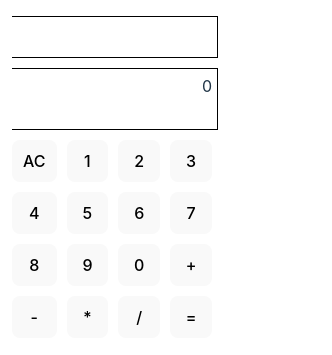
Test: Calculator component › Operação de cálculo (=)
What coordinates should you click on to do the following:
click the button with test id "button-9"
I would click on:
 (87, 265)
Its box is [66,244,108,286].
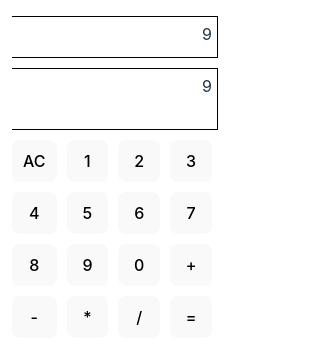
What coordinates should you click on to do the following:
click the button with test id "button-3"
I would click on:
 (191, 161)
Its box is [170,140,212,182].
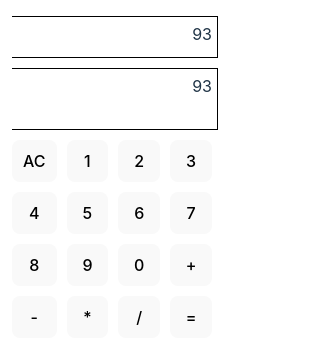
What coordinates should you click on to do the following:
click the button "/"
I would click on:
 (139, 317)
Its box is [118,296,160,338].
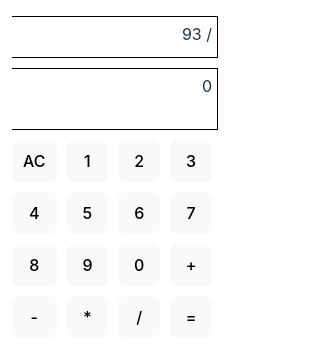
What coordinates should you click on to do the following:
click the button with test id "button-0"
I would click on:
 (139, 265)
Its box is [118,244,160,286].
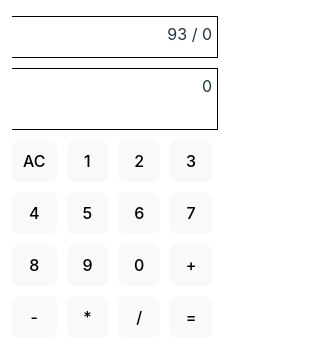
What coordinates should you click on to do the following:
click the button "="
I would click on:
 (191, 317)
Its box is [170,296,212,338].
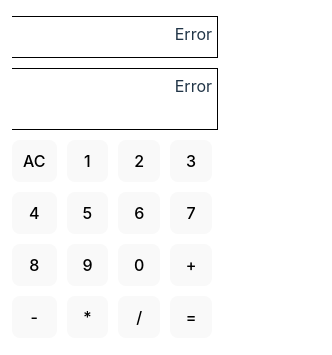
Expected: the text with test id "complete-operation" reads "Error", [175,24,212,44]
Expected: the text with test id "display" reads "Error", [175,76,212,96]
